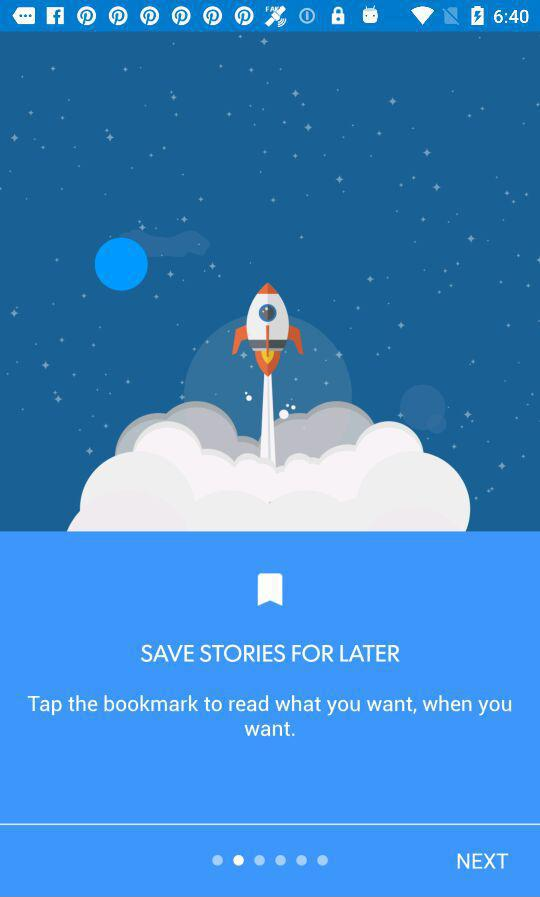Icon: (257, 572, 284, 609)
Image: (1, 33, 540, 532)
PageIndicator: (211, 854, 330, 868)
Text: (27, 694, 512, 737), (140, 643, 401, 664), (456, 852, 509, 871)
UpperTaskBar: (1, 1, 540, 33)
